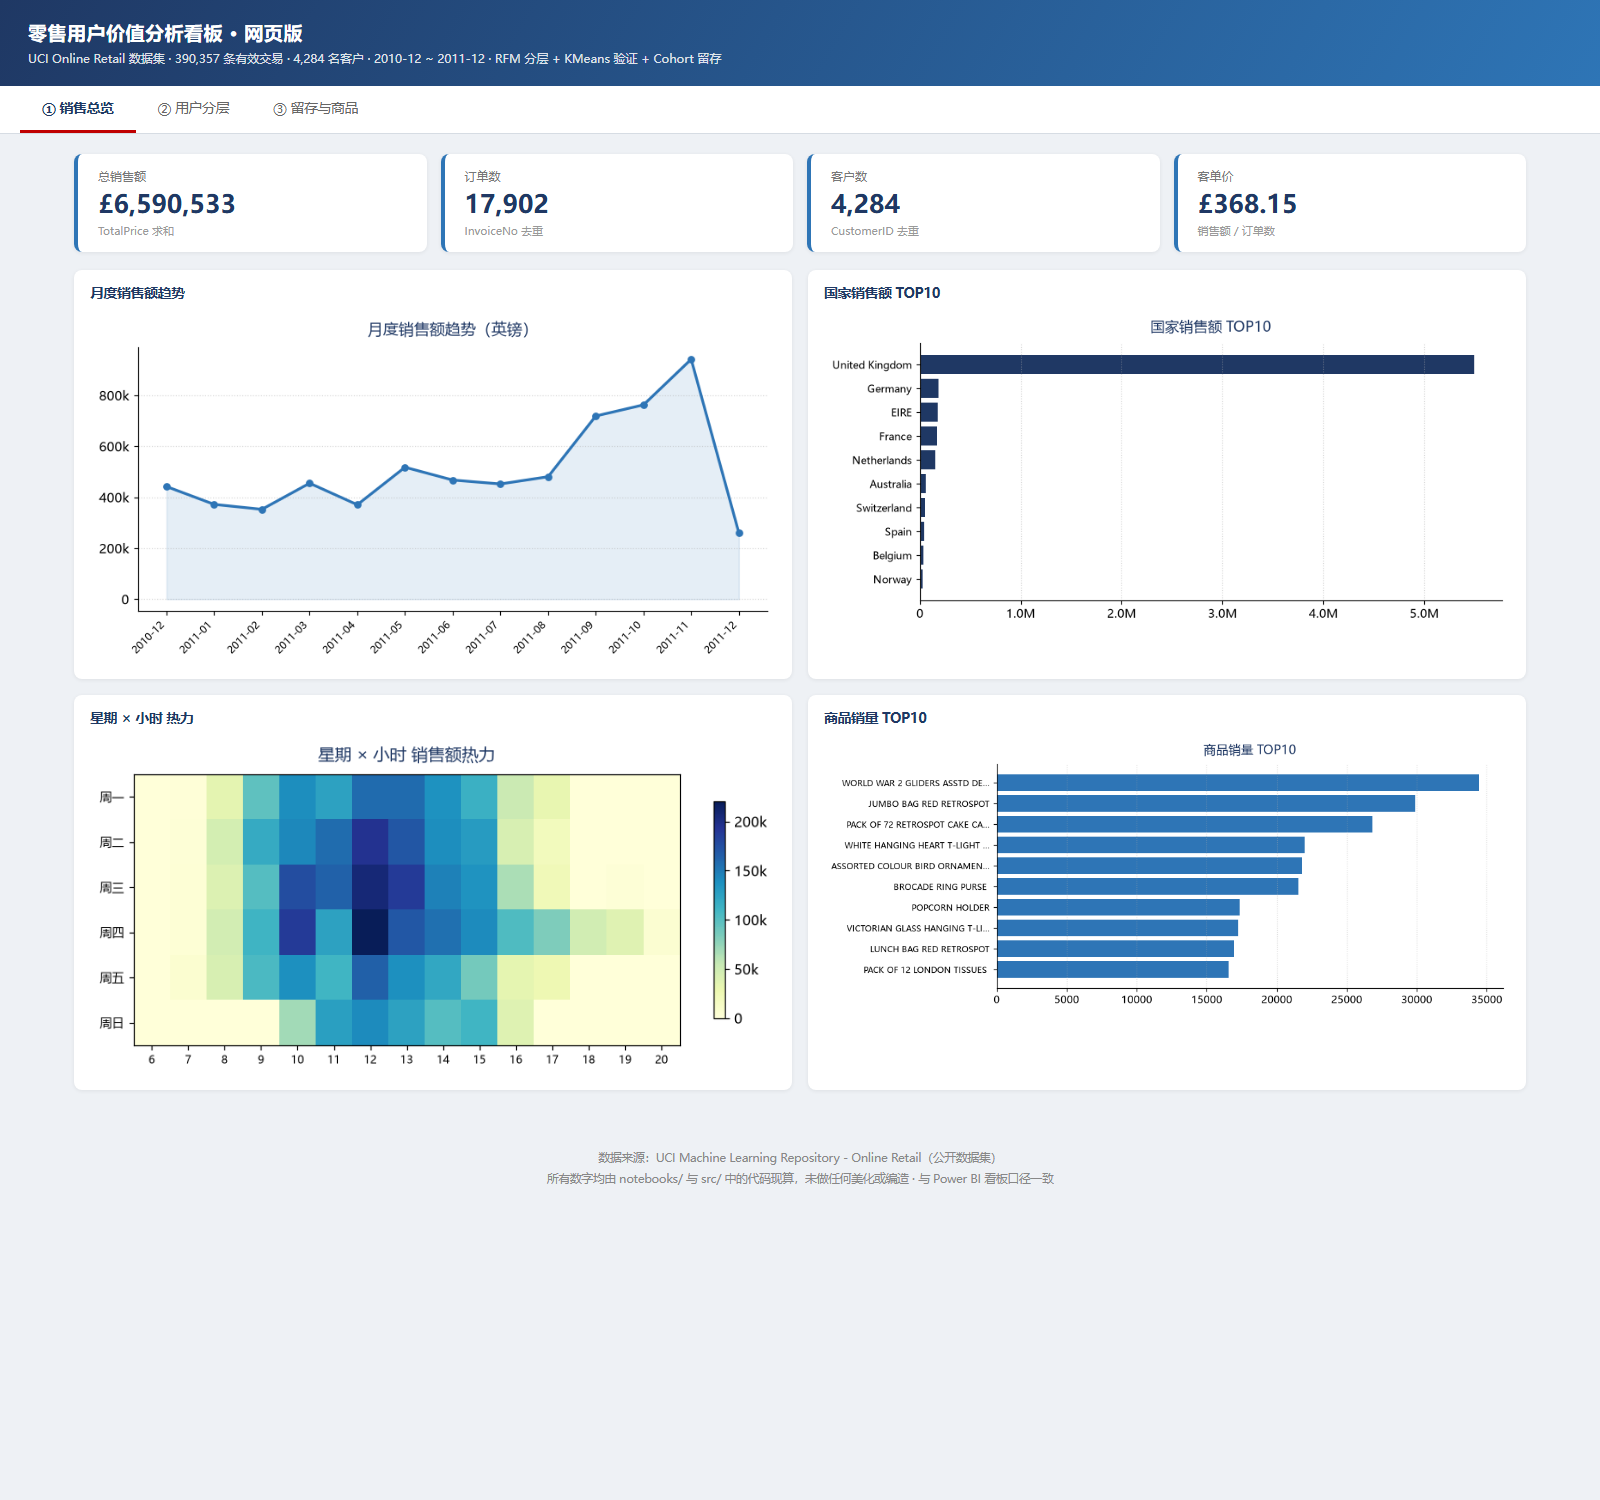

This screenshot's page, from the dashboard's own definition file:
{"tool":"powerbi","page":{"name":"销售总览","canvas":[1920,1080],"ordinal":0},"visuals":[{"type":"cardVisual","fields":{"Data":["日期表.总销售额","日期表.订单数","日期表.客户数","日期表.客单价"]},"box":[0,0,1911.5,123.7],"z":0},{"type":"lineChart","title":"月度销售额趋势（英镑）","fields":{"Category":["日期表.Date.变体.日期层次结构.年","日期表.Date.变体.日期层次结构.月份"],"Y":["日期表.总销售额"]},"box":[808.6,134.3,1065.1,306.3],"z":1000},{"type":"clusteredBarChart","title":"销售额TOP10国家","fields":{"Category":["retail_clean.Country"],"Y":["日期表.总销售额"]},"box":[808.7,439.5,1065.1,339.4],"z":2000},{"type":"pivotTable","title":"星期×小时 销售热力图","fields":{"Columns":["retail_clean.小时"],"Rows":["retail_clean.星期"],"Values":["日期表.总销售额"]},"box":[296.1,780.3,1417.2,300.2],"z":3000},{"type":"clusteredBarChart","title":"销量TOP10商品","fields":{"Category":["retail_clean.Description"],"Y":["Sum(retail_clean.Quantity)"]},"box":[296.1,133.9,466.5,619.3],"z":4000},{"type":"slicer","fields":{"Values":["retail_clean.Country"]},"box":[0,132.6,272.5,511.9],"z":5000},{"type":"slicer","fields":{"Values":["日期表.Date"]},"box":[0,710.6,273.1,138.8],"z":6000}]}

Visuals, with their boxes on the page's 1920x1080 design canvas (x1, y1, x2, y2). These are canvas units, not pixel positions in the 1600x1500 screenshot, which may show the page scaled, cropped or inside an application window:
cardVisual - 日期表.总销售额 x 日期表.订单数: detection(0, 0, 1912, 124)
"月度销售额趋势（英镑）" lineChart: detection(809, 134, 1874, 441)
"销售额TOP10国家" clusteredBarChart: detection(809, 440, 1874, 779)
"星期×小时 销售热力图" pivotTable: detection(296, 780, 1713, 1080)
"销量TOP10商品" clusteredBarChart: detection(296, 134, 763, 753)
slicer - retail_clean.Country: detection(0, 133, 272, 644)
slicer - 日期表.Date: detection(0, 711, 273, 849)
